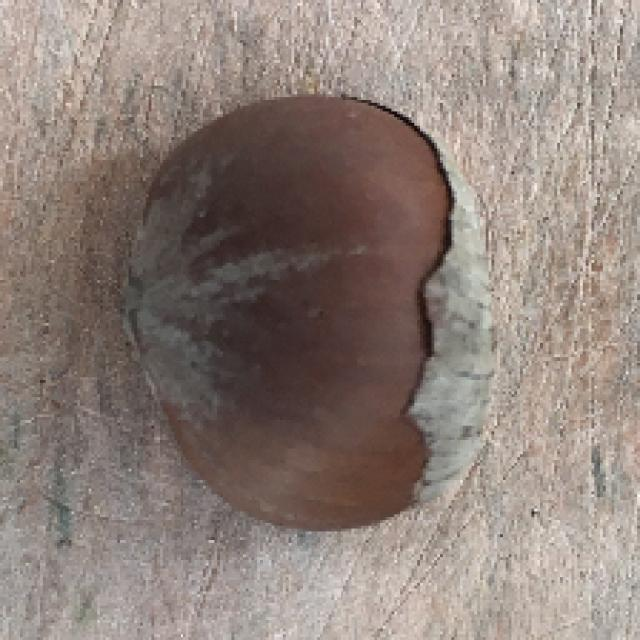damagedHazelnut: (114, 86, 494, 544)
